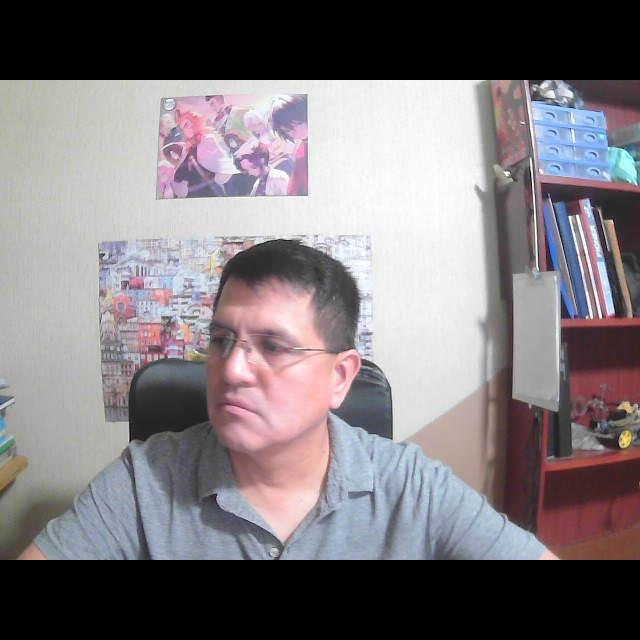cesar: (175, 229, 382, 475)
